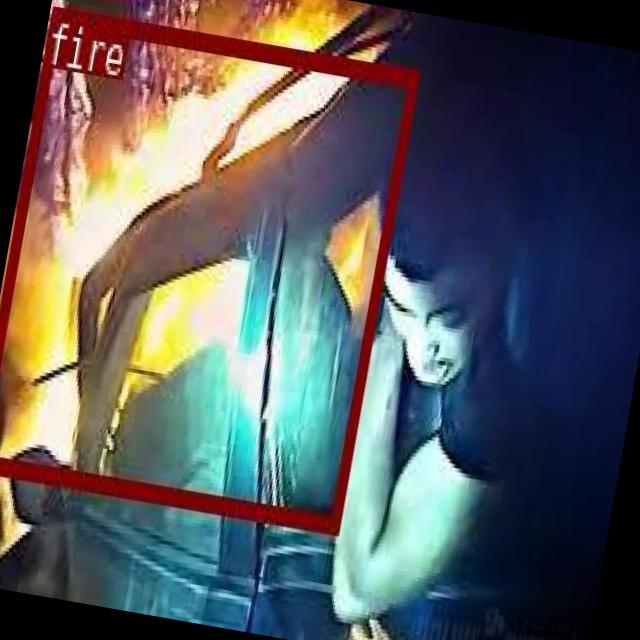fire: (0, 4, 417, 528)
